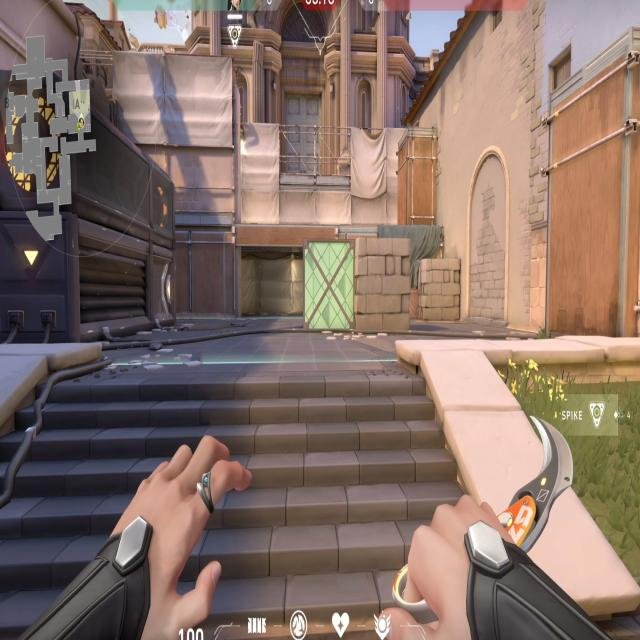A_Heaven_Box: (392, 120, 441, 225)
A_Heaven_Wall: (79, 43, 247, 213)
A_Hell: (228, 214, 346, 324)
A_Site_Box: (301, 225, 415, 349)
